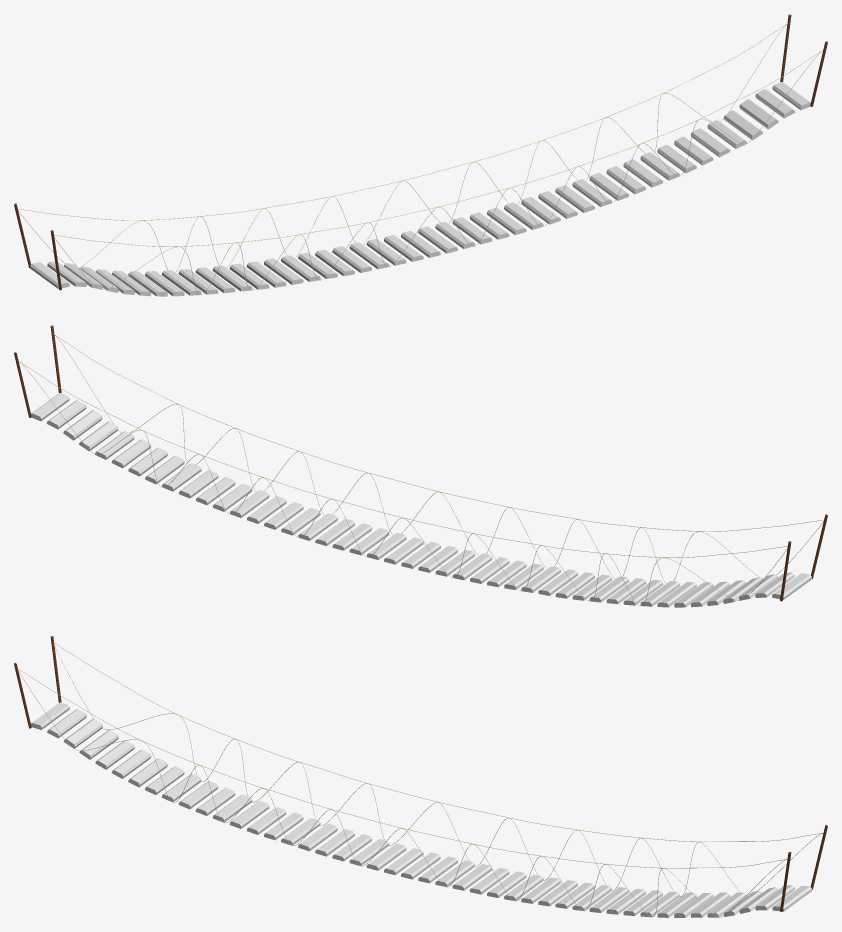
The model's file is BridgeWood.fbx.
3 renders of one model, top to bottom at view 1: azimuth 30°, elevation 25°; view 2: azimuth 150°, elevation 25°; view 3: azimuth 330°, elevation 25°, orthographic.
Parts seen in each view (by area): view 1: BridgePlank.001, BézierCurve, BridgeCurve.004, Handles; view 2: BridgePlank.001, BézierCurve, BridgeCurve.004, Handles; view 3: BridgePlank.001, BézierCurve, BridgeCurve.004, Handles.
Part boxes in pixels (box(x1,y1,x2,y2)): BridgePlank.001: box(30, 82, 810, 296); BézierCurve: box(18, 24, 821, 294); BridgeCurve.004: box(18, 23, 823, 246); Handles: box(14, 14, 827, 290); BridgePlank.001: box(31, 393, 811, 607); BézierCurve: box(20, 335, 823, 605); BridgeCurve.004: box(18, 334, 823, 557); Handles: box(14, 325, 827, 601); BridgePlank.001: box(31, 702, 811, 917); BézierCurve: box(18, 644, 822, 917); BridgeCurve.004: box(18, 642, 822, 868); Handles: box(14, 636, 827, 911).
Bounding box in the file's own units: 1880 × 287 × 159.
